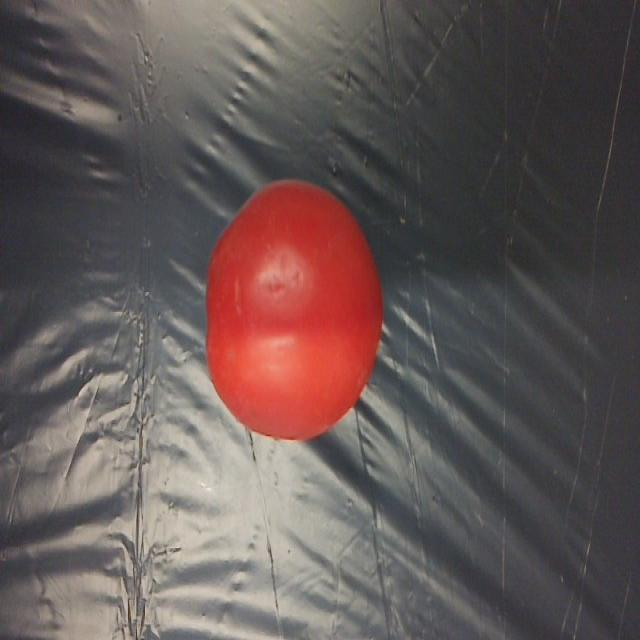kirmizi: (209, 168, 390, 446)
